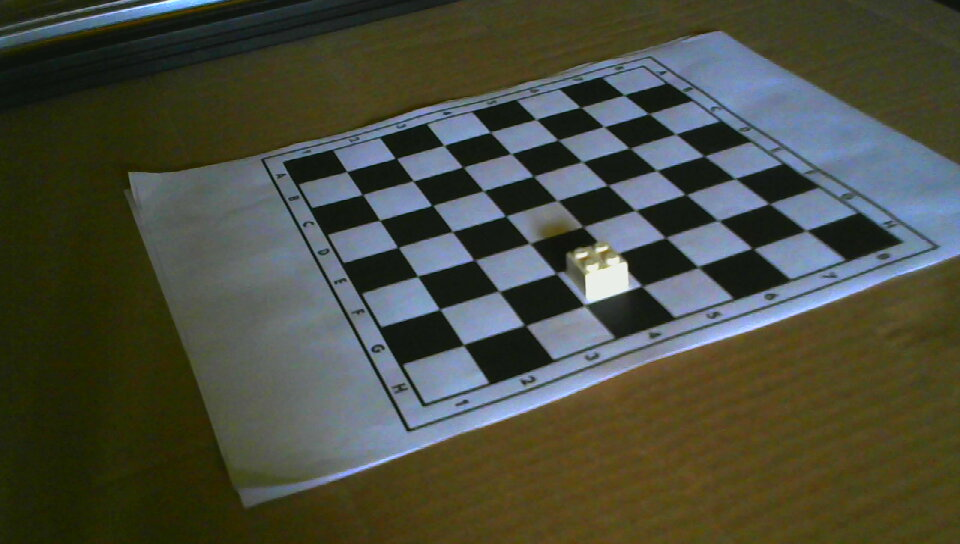wp: (567, 241, 629, 300)
